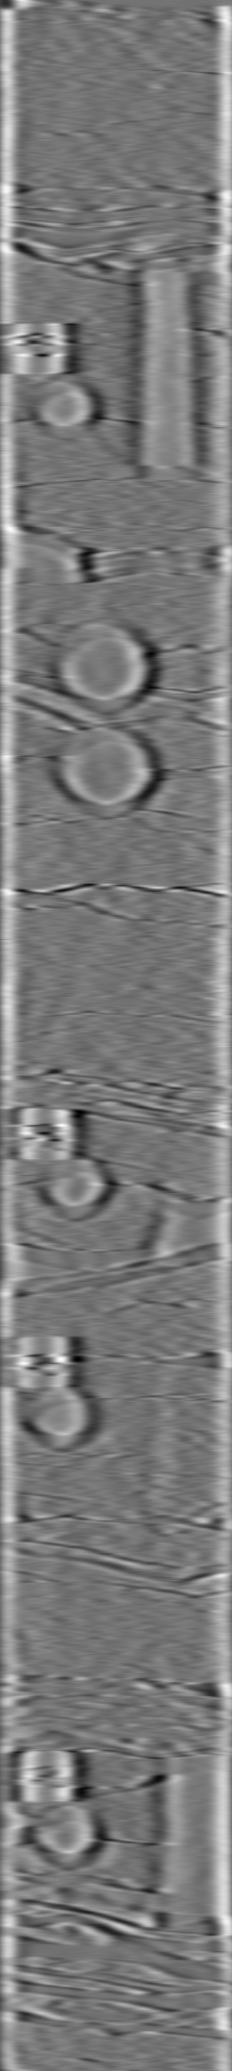hplug: (21, 1380, 109, 1456), (22, 372, 108, 444), (29, 1800, 109, 1874), (32, 1153, 113, 1223)
scal: (43, 721, 171, 825), (46, 610, 163, 717)
vplug: (125, 280, 212, 487), (146, 1739, 227, 1946), (136, 1359, 192, 1523)
